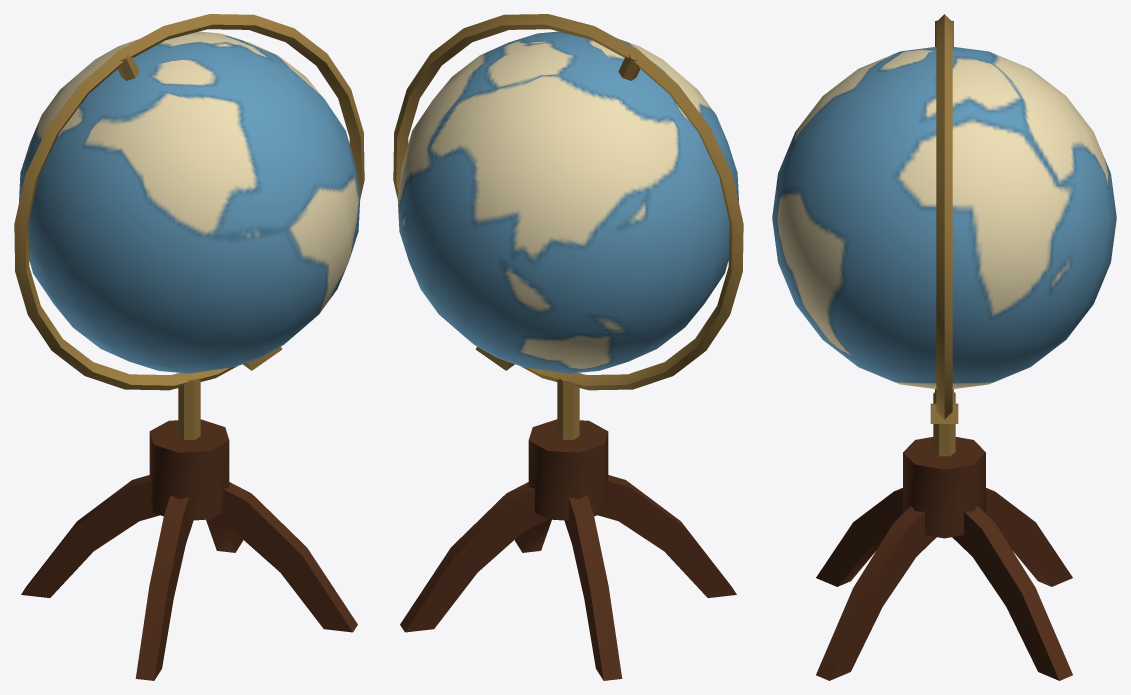
Rendered from GlobeE01.glb.
3 views of the same model, side by side, from view 1: azimuth 30°, elevation 25°; view 2: azimuth 150°, elevation 25°; view 3: azimuth 270°, elevation 25° (orthographic).
Visible parts, largest first — view 1: Globe_WorldMap, Stand_Wood, Stand_Brass; view 2: Globe_WorldMap, Stand_Wood, Stand_Brass; view 3: Globe_WorldMap, Stand_Wood, Stand_Brass.
Part boxes in pixels (box(x1,y1,x2,y2)): Globe_WorldMap: box(19, 31, 360, 373); Stand_Wood: box(21, 419, 357, 680); Stand_Brass: box(14, 14, 364, 439); Globe_WorldMap: box(397, 31, 738, 373); Stand_Wood: box(400, 419, 736, 680); Stand_Brass: box(393, 14, 743, 439); Globe_WorldMap: box(772, 47, 1116, 388); Stand_Wood: box(816, 437, 1072, 680); Stand_Brass: box(930, 14, 958, 456).
Size of the model in its own units: 2.94 by 4.74 by 2.5.
3 materials, 1 textured.
